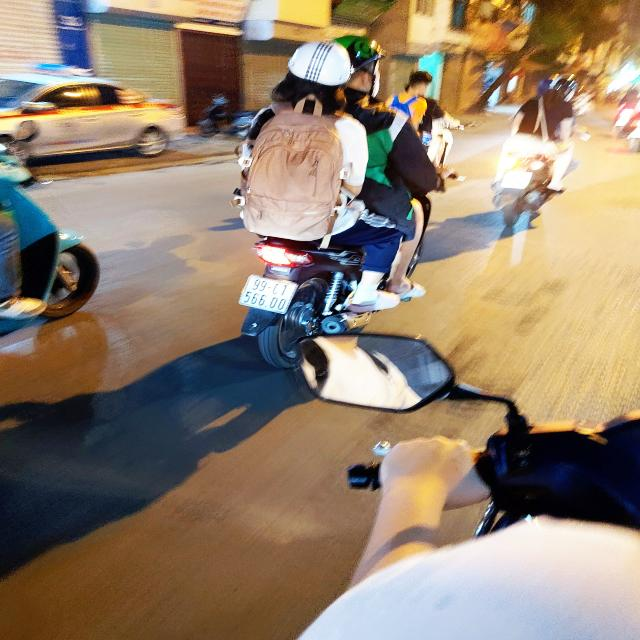license_plate: (238, 274, 301, 316)
